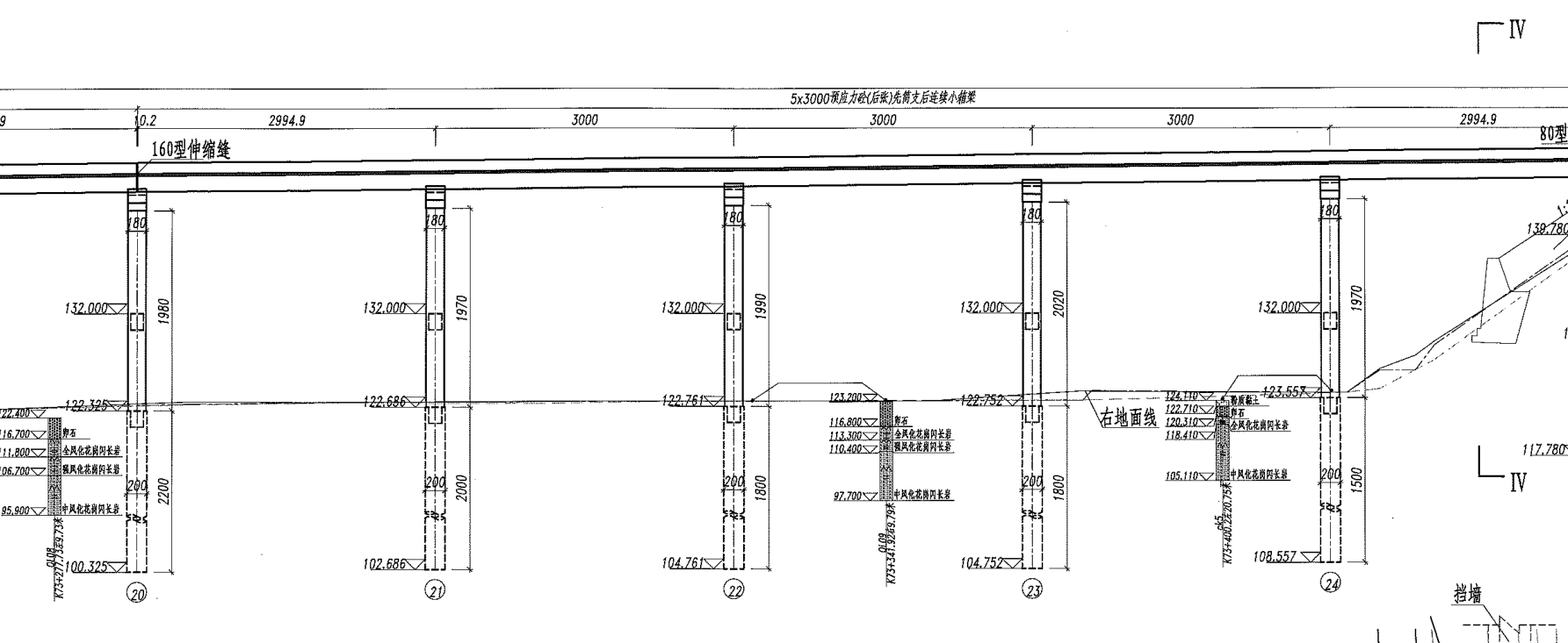C: (645, 175, 765, 608), (944, 176, 1063, 610), (348, 176, 464, 609), (52, 180, 166, 614), (1246, 175, 1360, 604)
